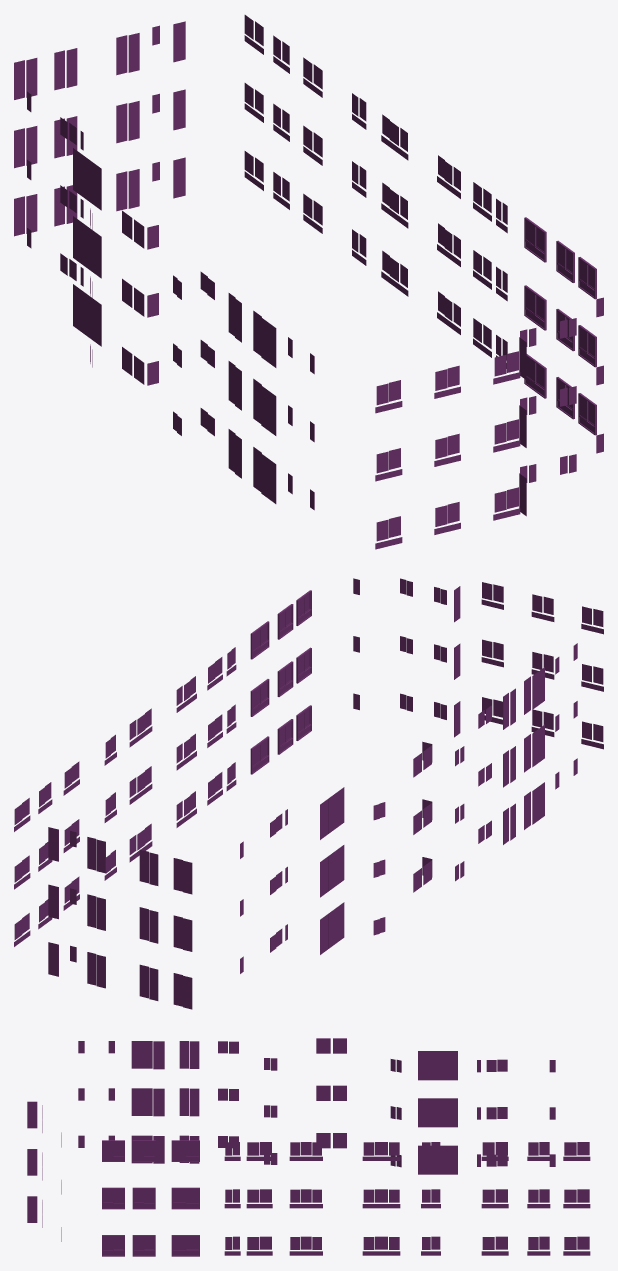
The model's file is component-glass.gltf.
The picture shows the model from 3 angles, top to bottom: view 1: azimuth 30°, elevation 25°; view 2: azimuth 150°, elevation 25°; view 3: azimuth 270°, elevation 25°; orthographic projection. The views are drawn at different scales.
Parts seen in each view (by area): view 1: 窗戶; view 2: 窗戶; view 3: 窗戶.
Boxes of the visible parts, bbox=[...] form: 窗戶: bbox=[14, 15, 603, 549]; 窗戶: bbox=[14, 578, 603, 1009]; 窗戶: bbox=[27, 1038, 590, 1256].
Bounding box in the file's own units: 15.65 × 9.08 × 38.44.
